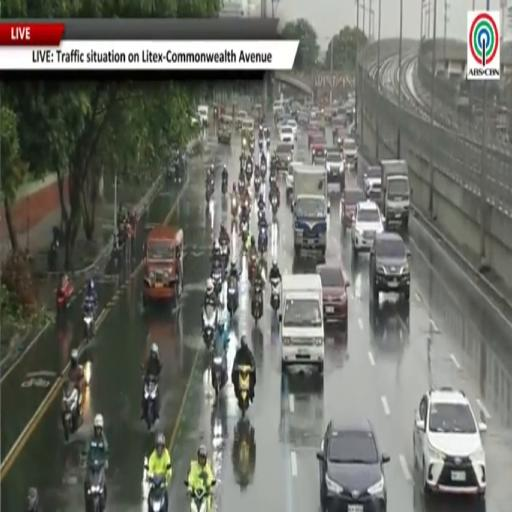car: (414, 388, 486, 500), (317, 419, 390, 511), (369, 232, 410, 302), (316, 264, 349, 331), (352, 201, 384, 255), (340, 187, 365, 230), (325, 151, 344, 190), (364, 166, 381, 203), (286, 162, 303, 198), (274, 143, 293, 170), (310, 134, 326, 164), (342, 137, 357, 168), (279, 126, 294, 143), (286, 119, 297, 139), (198, 105, 208, 126), (297, 110, 309, 125), (273, 100, 284, 114)
jeepney: (143, 226, 183, 307), (241, 118, 254, 149), (218, 116, 232, 143), (236, 110, 248, 131)
motorcycle: (232, 419, 255, 484), (62, 382, 80, 441), (86, 459, 105, 511), (237, 365, 253, 415), (190, 480, 215, 511), (144, 376, 158, 429), (211, 351, 227, 397), (149, 476, 167, 511), (203, 306, 217, 349), (56, 282, 73, 316), (227, 278, 238, 316), (252, 287, 263, 325), (211, 264, 223, 296), (83, 307, 94, 340), (48, 240, 59, 271), (270, 279, 280, 312), (258, 226, 268, 254), (248, 254, 257, 285), (221, 242, 230, 270), (241, 220, 248, 248), (258, 207, 266, 228), (231, 197, 238, 218), (271, 195, 278, 216), (246, 163, 253, 183), (255, 176, 261, 195), (206, 186, 212, 203), (270, 173, 276, 189), (261, 162, 266, 179), (222, 179, 227, 195), (271, 156, 276, 172), (249, 139, 254, 154), (267, 137, 270, 151)
truck: (292, 166, 329, 257), (381, 159, 410, 230)
